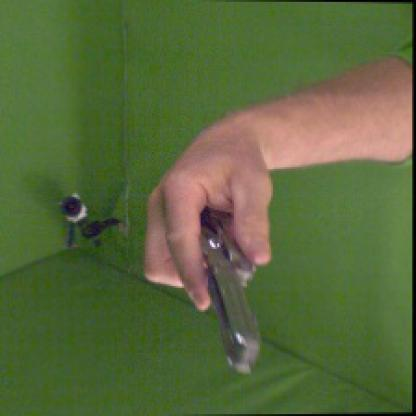Hand: (140, 117, 274, 311)
